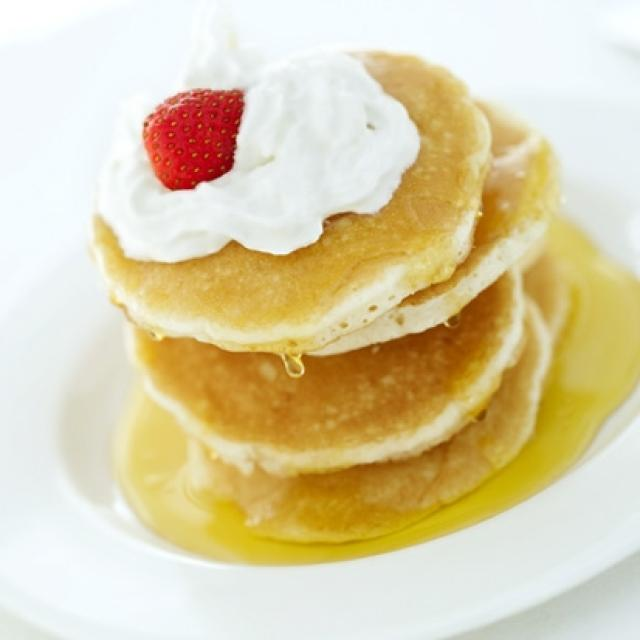蛋糕甜品: (28, 23, 621, 604)
